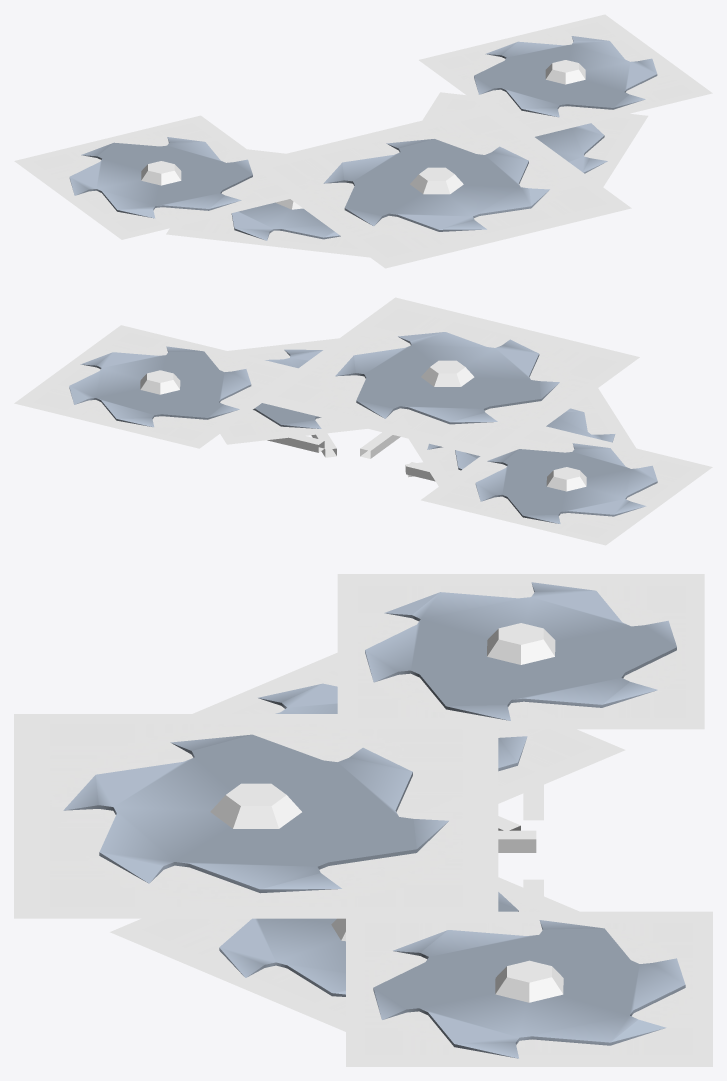
The model's file is saw 10.FBX.
3 renders of one model, top to bottom at view 1: azimuth 30°, elevation 25°; view 2: azimuth 150°, elevation 25°; view 3: azimuth 270°, elevation 25°, orthographic. The views are drawn at different scales.
Parts seen in each view (by area): view 1: Saw_Wind_FX, Saw_6_1, Saw_Wind_FX_4, Saw_Wind_FX_2, Saw_6_5, Saw_6_9, Saw_Wind_FX_1, Saw_Wind_FX_3, Saw_6_3, Saw_6_7, Saw_6_cell, Saw_6_cell_4 (+1 smaller); view 2: Saw_Wind_FX, Saw_6_1, Saw_Wind_FX_4, Saw_Wind_FX_2, Saw_6_5, Saw_6_9, Saw_Wind_FX_3, Saw_Wind_FX_1, Saw_6_7, Saw_6_3, Saw_6_cell, Saw_6_cell_2 (+3 smaller); view 3: Saw_Wind_FX, Saw_6_1, Saw_Wind_FX_4, Saw_Wind_FX_2, Saw_6_5, Saw_6_9, Saw_Wind_FX_3, Saw_Wind_FX_1, Saw_6_7, Saw_6_cell, Saw_6_3, Saw_6_cell_2 (+2 smaller).
Boxes of the visible parts, <box> form: Saw_Wind_FX: <box>261,104,631,268</box>; Saw_6_1: <box>323,139,549,231</box>; Saw_Wind_FX_4: <box>14,115,308,239</box>; Saw_Wind_FX_2: <box>419,14,712,138</box>; Saw_6_5: <box>474,36,657,117</box>; Saw_6_9: <box>69,137,252,218</box>; Saw_Wind_FX_1: <box>166,149,369,257</box>; Saw_Wind_FX_3: <box>422,92,648,186</box>; Saw_6_3: <box>231,202,340,240</box>; Saw_6_7: <box>535,123,607,173</box>; Saw_6_cell: <box>410,167,463,194</box>; Saw_6_cell_4: <box>141,161,181,185</box>; Saw_Wind_FX: <box>262,297,639,455</box>; Saw_6_1: <box>335,332,559,424</box>; Saw_Wind_FX_4: <box>421,422,712,545</box>; Saw_Wind_FX_2: <box>14,325,305,448</box>; Saw_6_5: <box>69,346,251,427</box>; Saw_6_9: <box>475,443,657,523</box>; Saw_Wind_FX_3: <box>220,338,367,444</box>; Saw_Wind_FX_1: <box>409,388,635,486</box>; Saw_6_7: <box>253,349,322,428</box>; Saw_6_3: <box>427,408,615,470</box>; Saw_6_cell: <box>421,360,474,386</box>; Saw_6_cell_2: <box>140,370,180,394</box>; Saw_Wind_FX: <box>14,714,498,918</box>; Saw_6_1: <box>63,734,448,893</box>; Saw_Wind_FX_4: <box>337,574,704,729</box>; Saw_Wind_FX_2: <box>346,911,712,1066</box>; Saw_6_5: <box>373,920,685,1058</box>; Saw_6_9: <box>365,582,676,720</box>; Saw_Wind_FX_3: <box>110,877,579,1031</box>; Saw_Wind_FX_1: <box>193,652,625,803</box>; Saw_6_7: <box>219,892,518,996</box>; Saw_6_cell: <box>210,783,301,828</box>; Saw_6_3: <box>258,683,527,771</box>; Saw_6_cell_2: <box>495,960,563,1002</box>.
Bounding box in the file's own units: 696 × 49.96 × 417.
